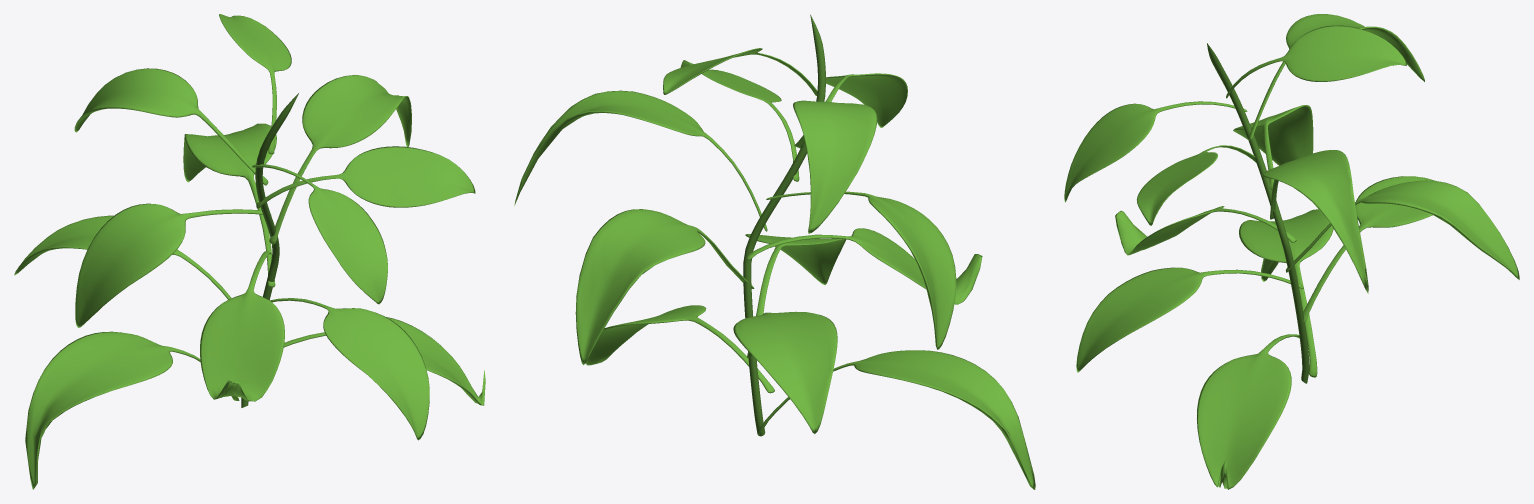
File: Plant1_Medium.fbx
The picture shows the model from 3 angles, left to right: view 1: azimuth 30°, elevation 25°; view 2: azimuth 150°, elevation 25°; view 3: azimuth 270°, elevation 25°; orthographic projection. The views are drawn at different scales.
Parts seen in each view (by area): view 1: Leaf, Stem; view 2: Leaf, Stem; view 3: Leaf, Stem.
Part boxes in pixels (x1,y1,x2,y2): Leaf: (14, 14, 485, 489); Stem: (241, 93, 298, 407); Leaf: (514, 48, 1035, 489); Stem: (743, 14, 825, 436); Leaf: (1064, 14, 1519, 489); Stem: (1207, 43, 1309, 383).
Bounding box in the file's own units: 984 × 825 × 921.
